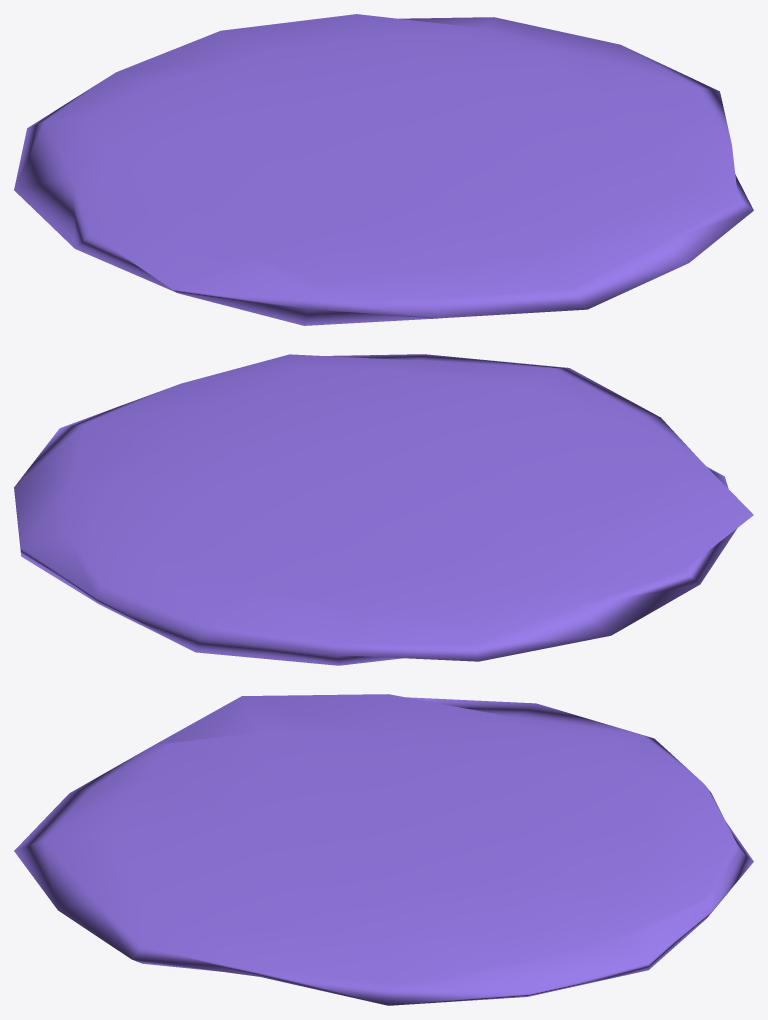
The model's file is Flowerbed_ground.fbx.
The picture shows the model from 3 angles, top to bottom: view 1: azimuth 30°, elevation 25°; view 2: azimuth 150°, elevation 25°; view 3: azimuth 270°, elevation 25°; orthographic projection.
Parts seen in each view (by area): view 1: Cube; view 2: Cube; view 3: Cube.
Boxes of the visible parts, x1,y1,x2,y2 form: Cube: [14, 14, 753, 325]; Cube: [14, 354, 753, 665]; Cube: [14, 694, 753, 1005].
Size of the model in its own units: 579 by 42.26 by 585.
